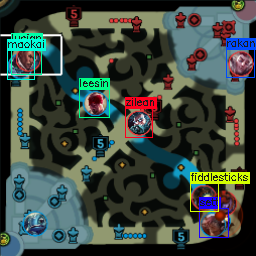fiddlesticks: (192, 185, 218, 211)
leesin: (83, 91, 108, 116)
lucian: (16, 46, 40, 71)
maokai: (8, 54, 31, 79)
rakan: (228, 51, 254, 76)
sett: (199, 211, 226, 238)
tristana: (213, 190, 237, 214)
zilean: (126, 111, 151, 135)
